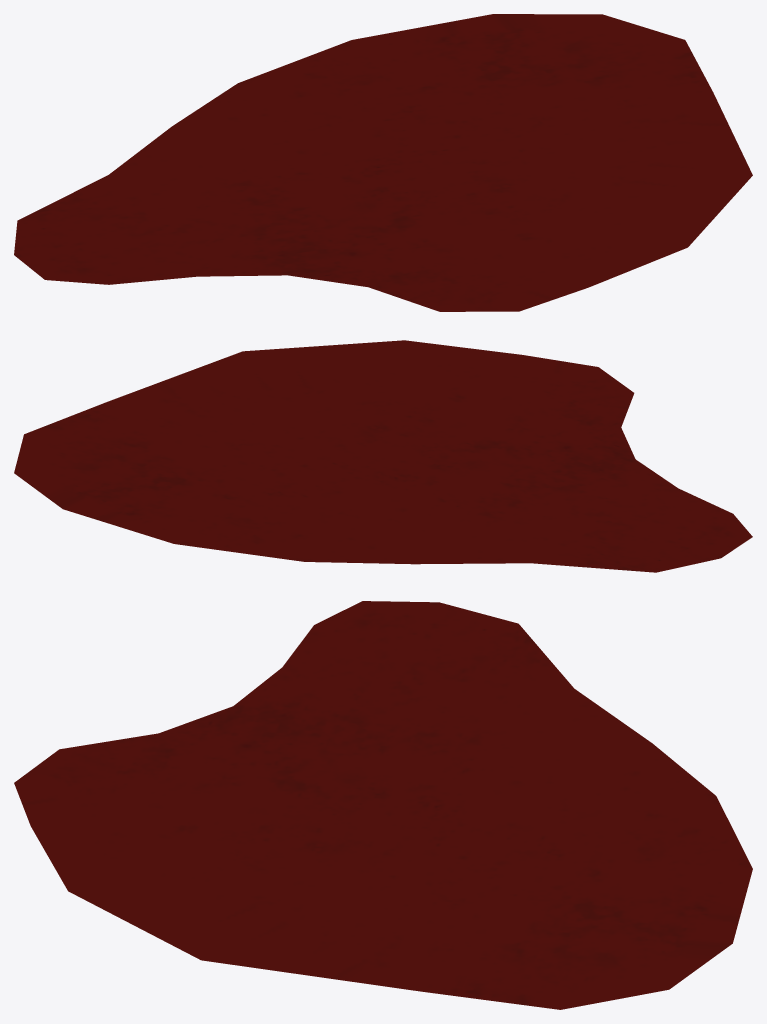
The model's file is SM_Blood3.fbx.
3 renders of one model, top to bottom at view 1: azimuth 30°, elevation 25°; view 2: azimuth 150°, elevation 25°; view 3: azimuth 270°, elevation 25°, orthographic. The views are drawn at different scales.
Parts seen in each view (by area): view 1: SM_Blood3; view 2: SM_Blood3; view 3: SM_Blood3.
Boxes of the visible parts, <box> form: SM_Blood3: <box>14,14,752,311</box>; SM_Blood3: <box>14,340,752,572</box>; SM_Blood3: <box>14,601,752,1009</box>.
Bounding box in the file's own units: 25.2 × 4.03e-05 × 19.24.
1 material, 1 textured.
